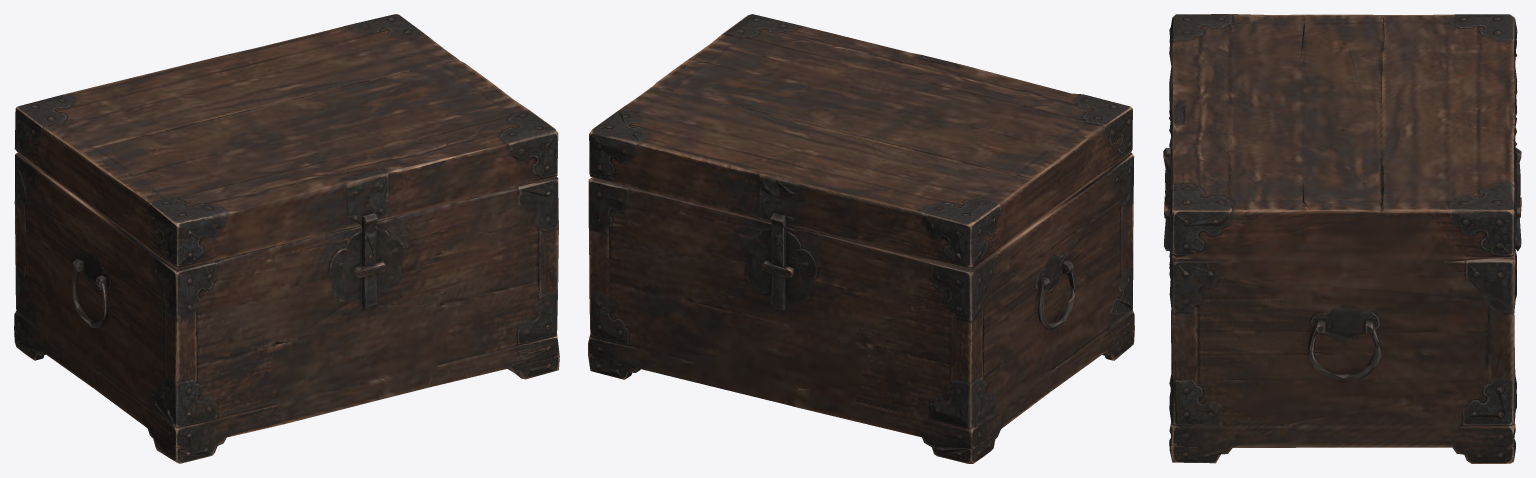
File: wood_crate.glb
3 views of the same model, side by side, from view 1: azimuth 30°, elevation 25°; view 2: azimuth 150°, elevation 25°; view 3: azimuth 270°, elevation 25° (orthographic). The views are drawn at different scales.
Parts seen in each view (by area): view 1: Body, Lid; view 2: Body, Lid; view 3: Lid, Body.
Boxes of the visible parts, left/top/right/bottom form: Body: left=14, top=150, right=559, bottom=463; Lid: left=14, top=14, right=558, bottom=267; Body: left=588, top=150, right=1134, bottom=463; Lid: left=589, top=14, right=1132, bottom=267; Lid: left=1163, top=14, right=1521, bottom=256; Body: left=1164, top=68, right=1521, bottom=463.
Size of the model in its own units: 0.9 by 0.5225 by 0.6629.
1 material, 1 textured.
